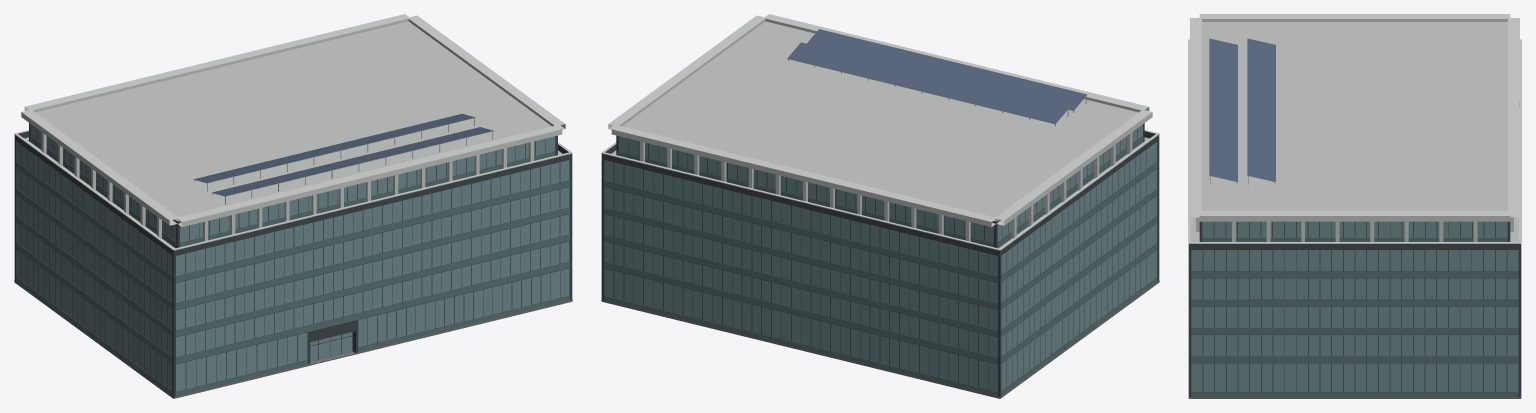
3 views of the same model, side by side, from view 1: azimuth 30°, elevation 25°; view 2: azimuth 150°, elevation 25°; view 3: azimuth 270°, elevation 25° (orthographic). The views are drawn at different scales.
Visible parts, largest first — view 1: library__glass, library__roof, library__spandrel, library__trim, library__frame, library__wall, library__pvPanel, library__parapet, library__base, library__pvFrame; view 2: library__glass, library__roof, library__spandrel, library__trim, library__frame, library__pvPanel, library__wall, library__parapet, library__base; view 3: library__roof, library__glass, library__trim, library__spandrel, library__pvPanel, library__frame, library__wall, library__parapet, library__base.
Boxes of the visible parts, <box> form: library__glass: <box>16,124,569,391</box>; library__roof: <box>24,21,562,248</box>; library__spandrel: <box>16,136,569,396</box>; library__trim: <box>14,14,572,250</box>; library__frame: <box>16,128,569,389</box>; library__wall: <box>14,123,572,398</box>; library__pvPanel: <box>194,113,493,196</box>; library__parapet: <box>14,131,572,255</box>; library__base: <box>14,280,572,398</box>; library__pvFrame: <box>194,117,493,204</box>; library__glass: <box>604,124,1157,391</box>; library__roof: <box>611,21,1149,248</box>; library__spandrel: <box>604,136,1157,396</box>; library__trim: <box>601,14,1159,250</box>; library__frame: <box>604,128,1157,389</box>; library__pvPanel: <box>787,29,1087,123</box>; library__wall: <box>601,123,1159,398</box>; library__parapet: <box>601,131,1159,255</box>; library__base: <box>601,280,1159,398</box>; library__roof: <box>1191,22,1518,241</box>; library__glass: <box>1191,221,1518,391</box>; library__trim: <box>1188,14,1521,243</box>; library__spandrel: <box>1191,238,1518,396</box>; library__pvPanel: <box>1209,38,1275,181</box>; library__frame: <box>1191,221,1518,392</box>; library__wall: <box>1188,221,1521,396</box>; library__parapet: <box>1188,244,1521,249</box>; library__base: <box>1188,397,1521,398</box>.
Bounding box in the file's own units: 61 × 26.3 × 42.22.
